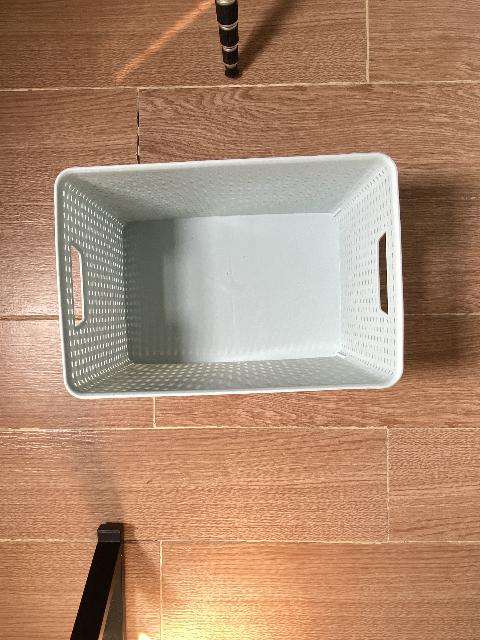cart: (53, 153, 405, 400)
